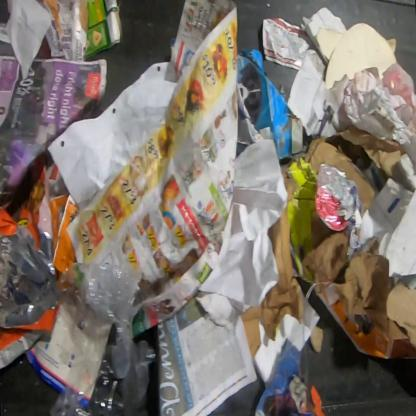cardboard: (280, 135, 376, 284), (241, 203, 305, 360), (237, 47, 310, 162), (333, 251, 410, 343), (361, 151, 415, 279), (42, 0, 88, 61), (84, 0, 123, 59), (385, 278, 415, 354), (310, 325, 324, 355)
rigid_plastic: (380, 62, 415, 130)
soft_plastic: (48, 261, 158, 415), (0, 161, 79, 329), (314, 162, 362, 259)
